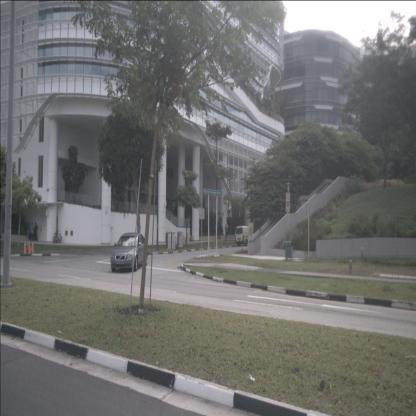human-pedestrian-adult: (224, 222, 229, 242), (34, 221, 38, 242), (30, 222, 34, 241), (27, 226, 31, 242)
movable_object-trafficcone: (27, 240, 31, 254), (31, 241, 35, 253), (23, 242, 27, 254)
vehicle-bicycle: (54, 230, 62, 244), (53, 232, 60, 243), (178, 232, 185, 243), (186, 233, 194, 242)
vehicle-car: (110, 232, 148, 272), (235, 226, 256, 246)
